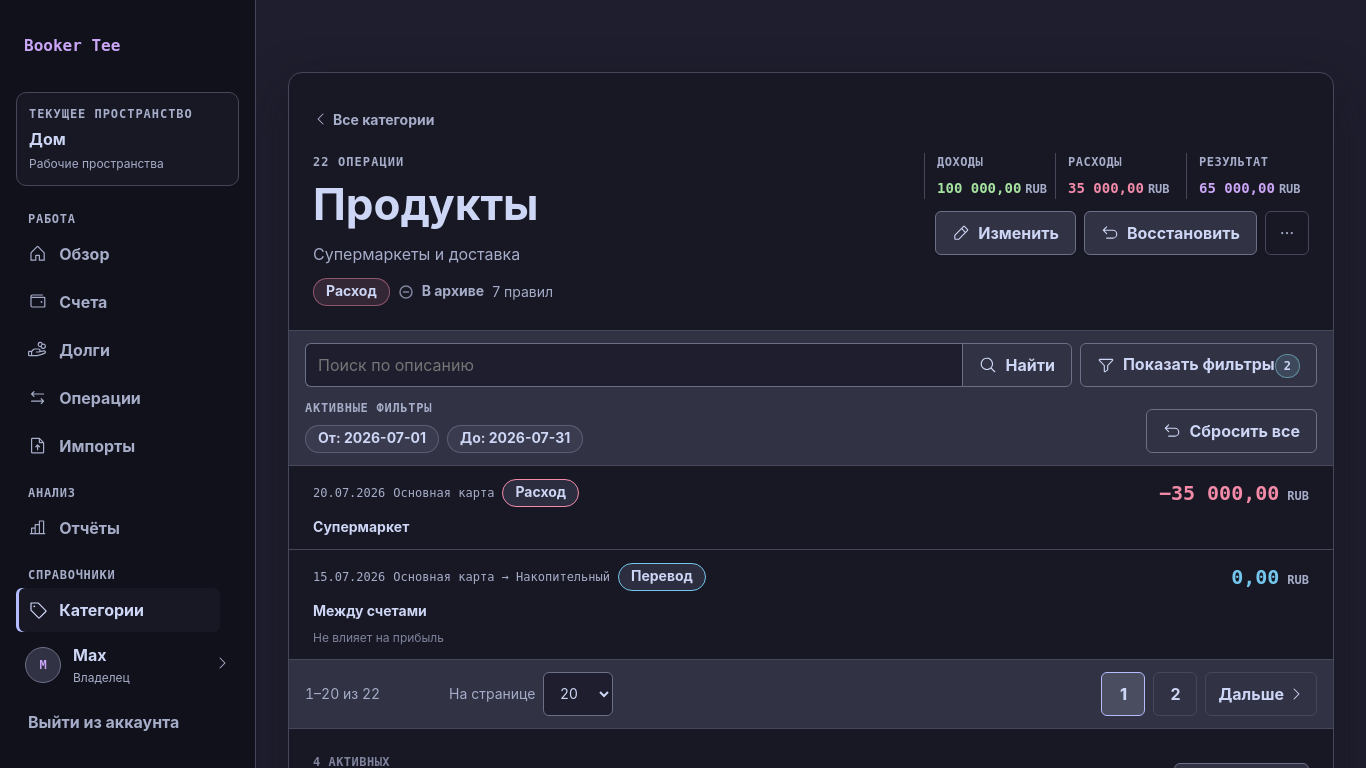
Test: CategoryDetailPage › deletes only an eligible archived category from the overflow
Step 1. Click the button named "Ещё действия" → point(1287, 233), box [1265,211,1309,255]
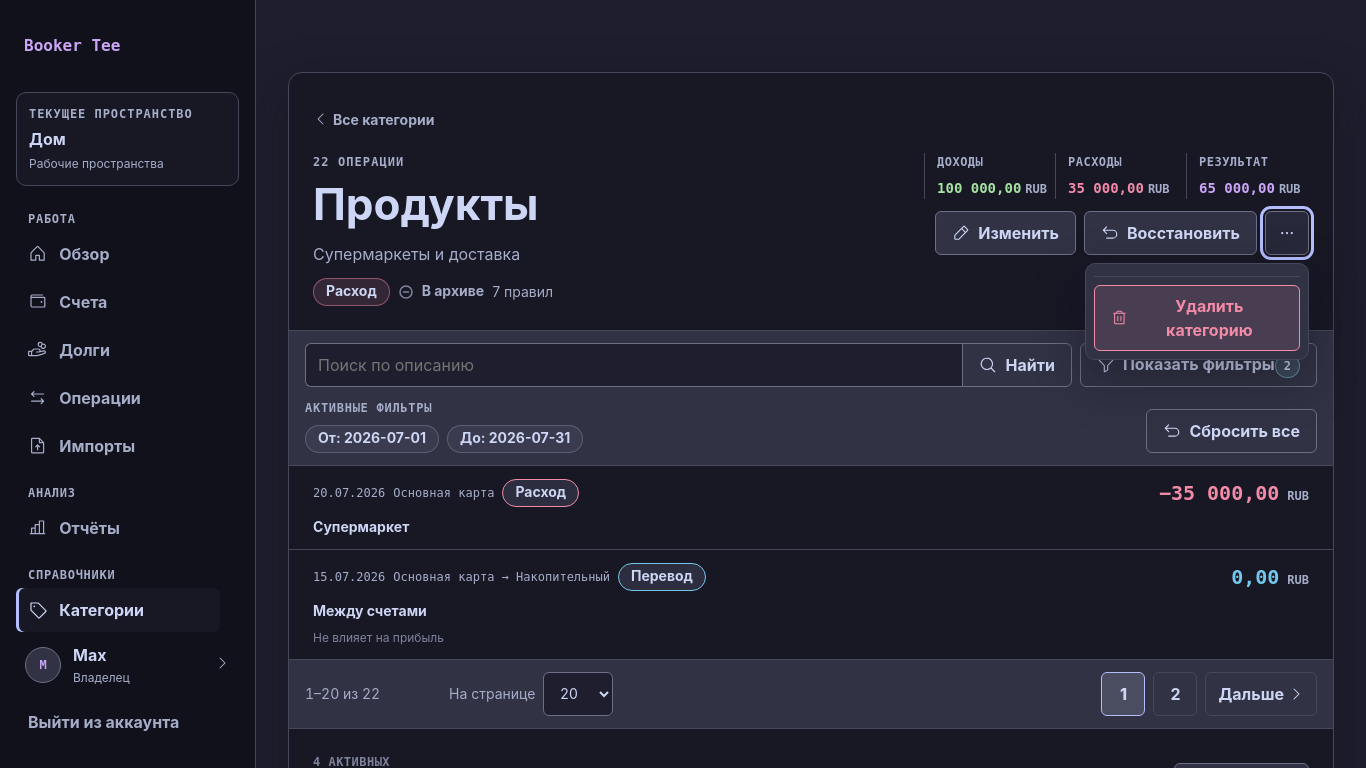
Step 2. Click the button "Удалить категорию" → point(1197, 318), box [1094,285,1300,351]
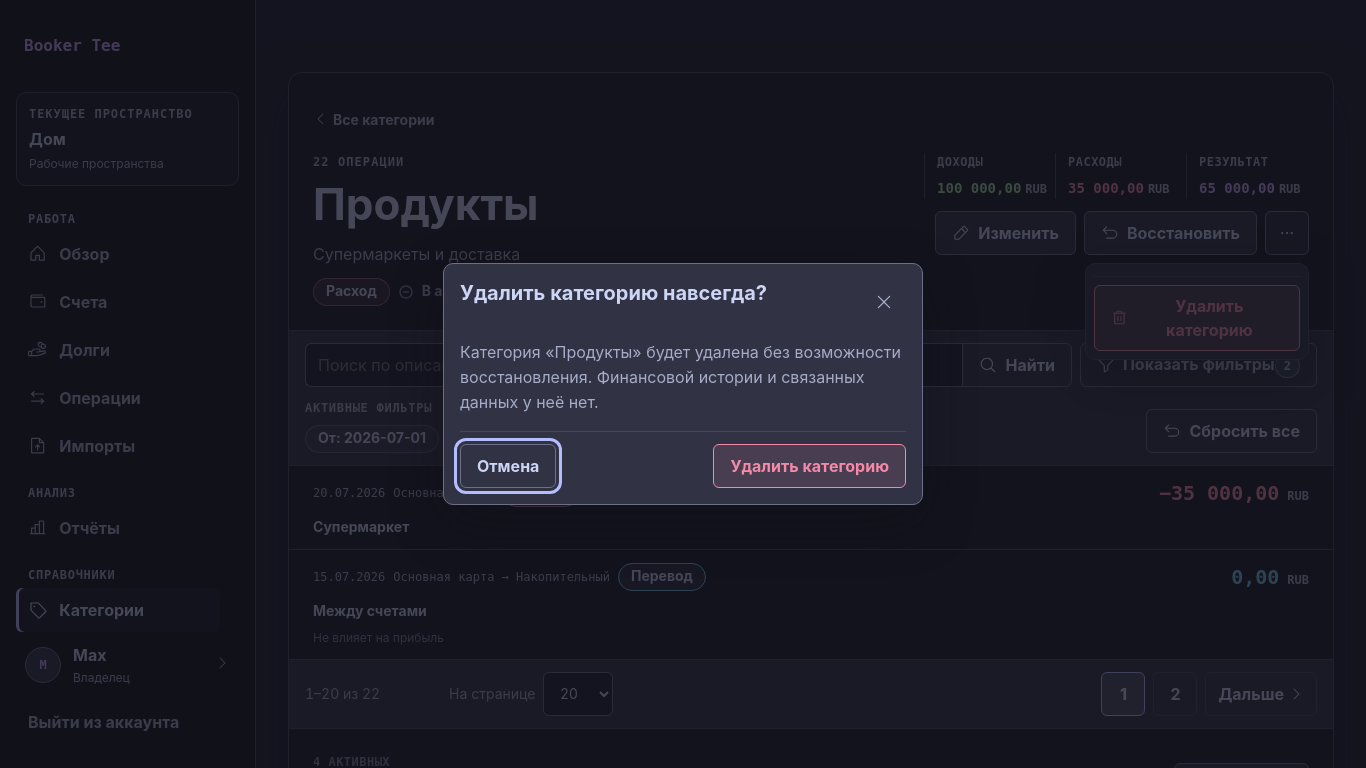
Check: the dialog "Удалить категорию навсегда?" is shown, box [443,263,923,505]
Step 3. Click the button "Удалить категорию" → point(810, 466), box [713,444,906,488]
(page scrolled)
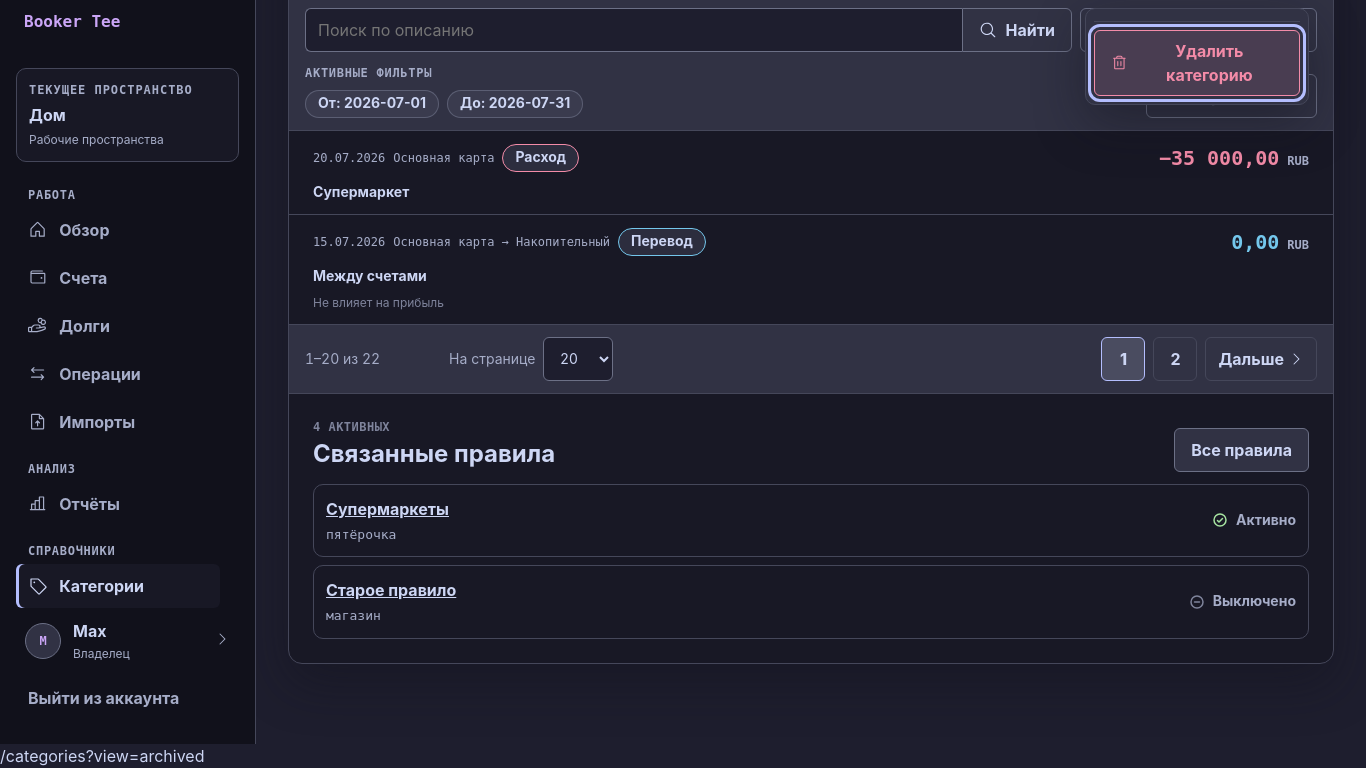
Check: the text with test id "location" reads "/categories?view=archived", box [0,746,204,766]
